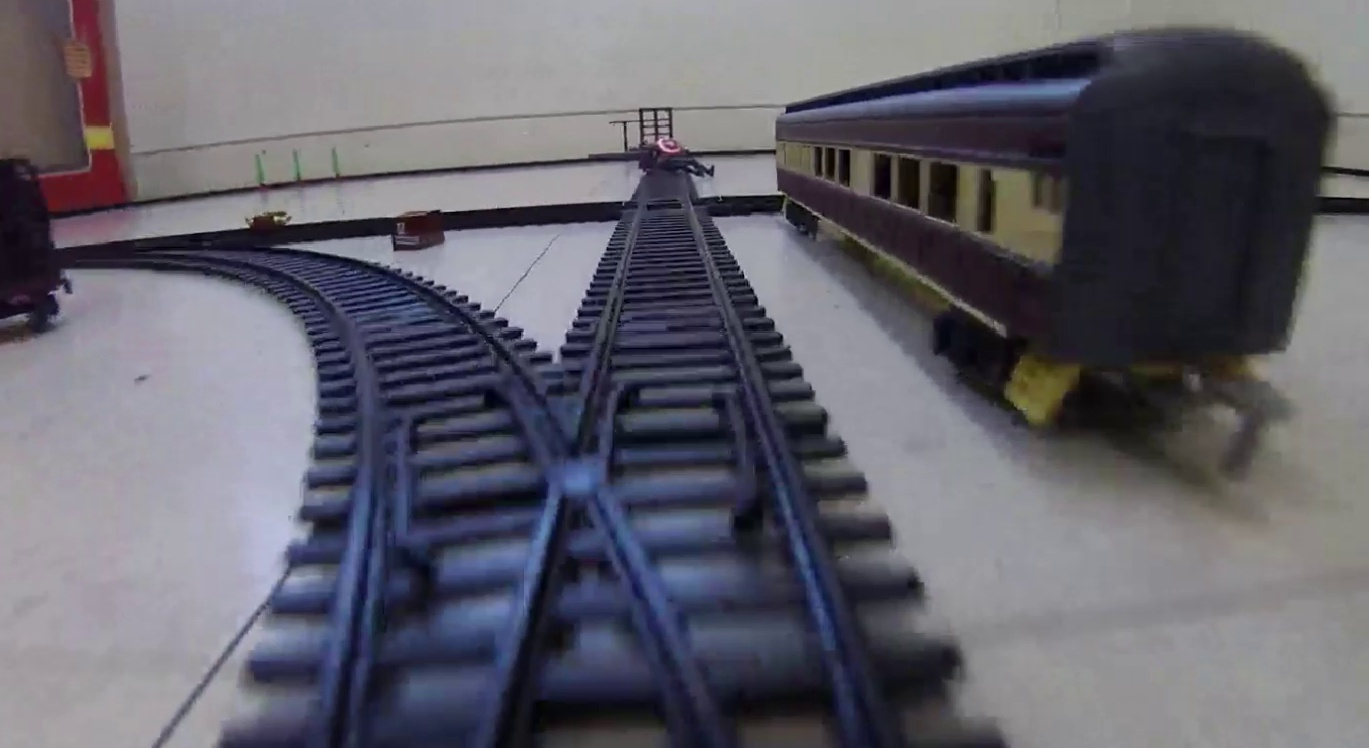box: (393, 212, 442, 249)
